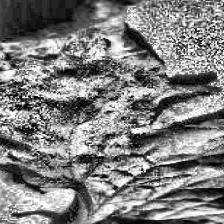Angular Leafspot: (53, 47, 120, 104), (0, 85, 56, 139), (20, 152, 90, 179), (198, 126, 224, 147)
